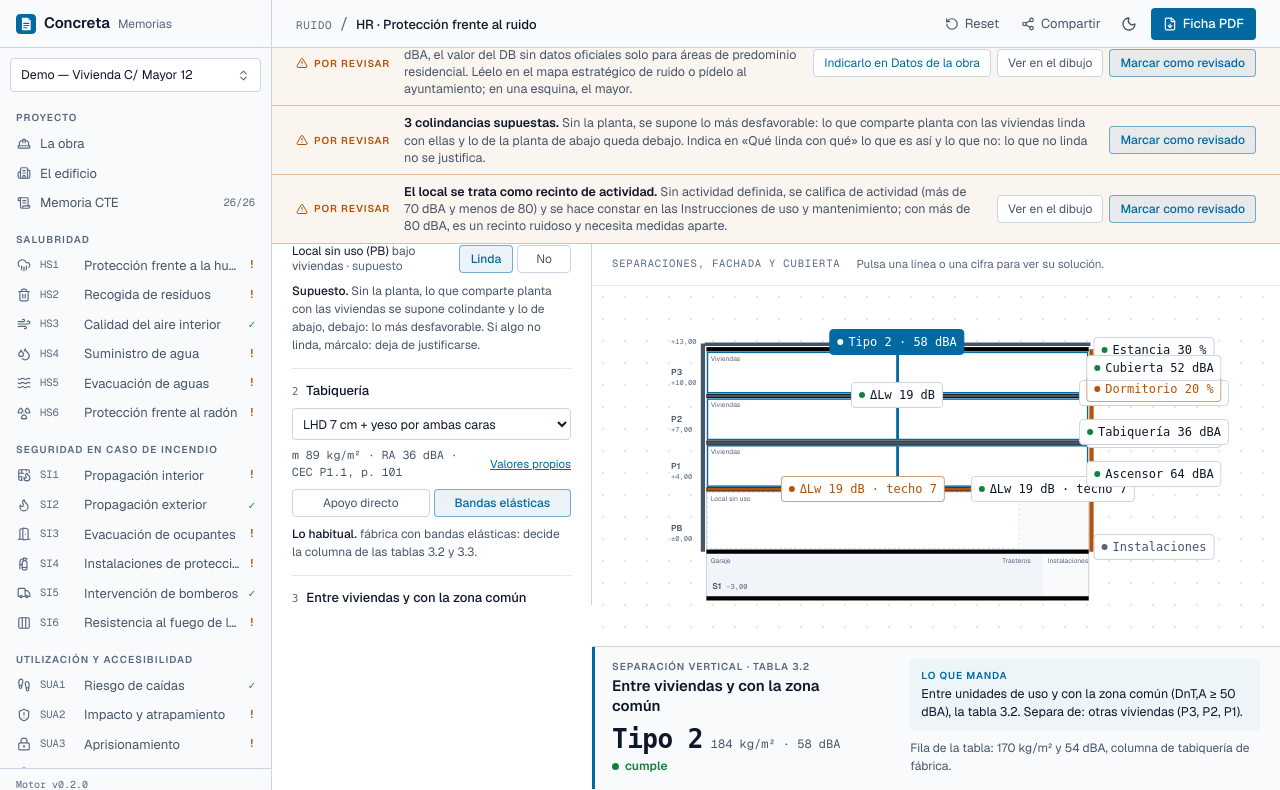
Scenario: HR · Protección frente al ruido (feature-25) › cabecera, qué entra y avisos; una tabiquería que no llega no cumple
(page scrolled)
Expected: the element "Separaciones, fachada y cubierta" is shown, [592,244,1279,605]
Select "Ladrillo de gran formato 7 cm + yeso por ambas caras" in the dropdown labelled "2 Tabiquería" at (432, 424), box [292,408,571,440]
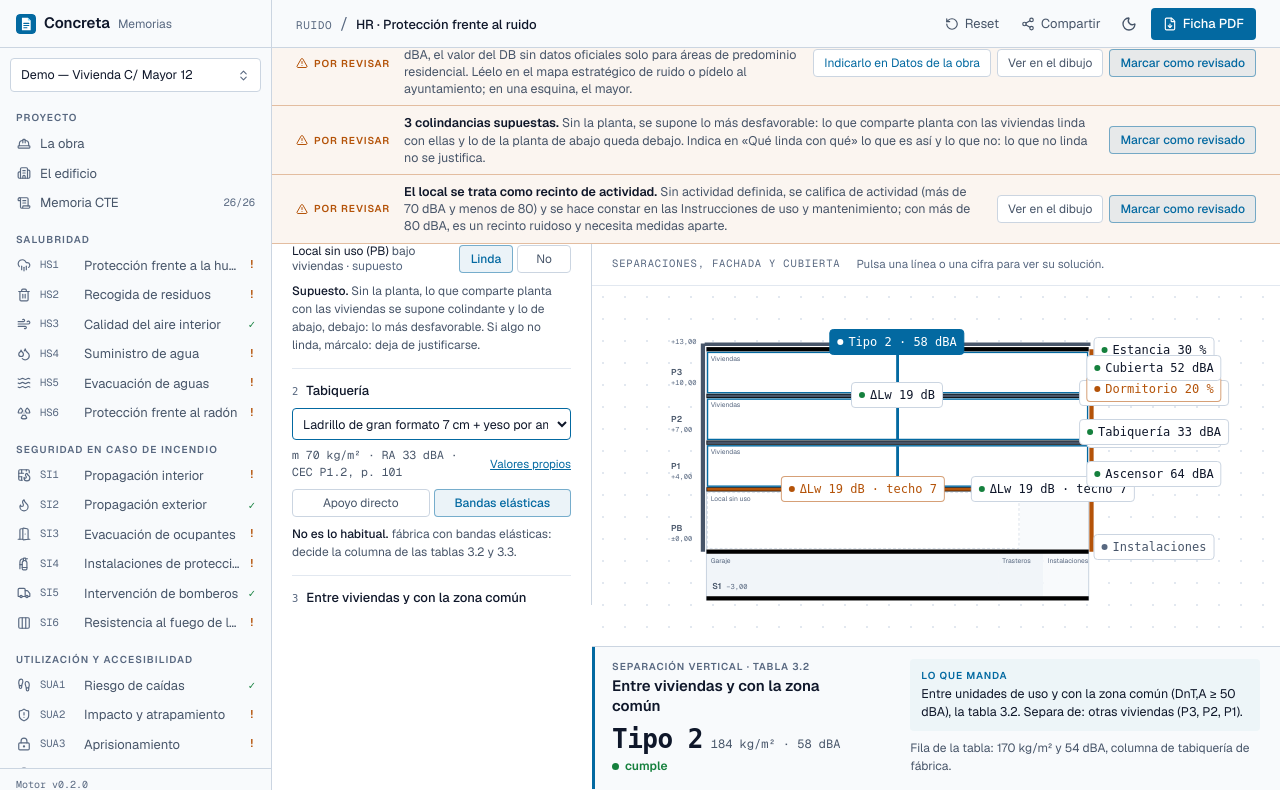
Click the button "Apoyo directo" at (361, 503), box [292,489,430,517]
(page scrolled)
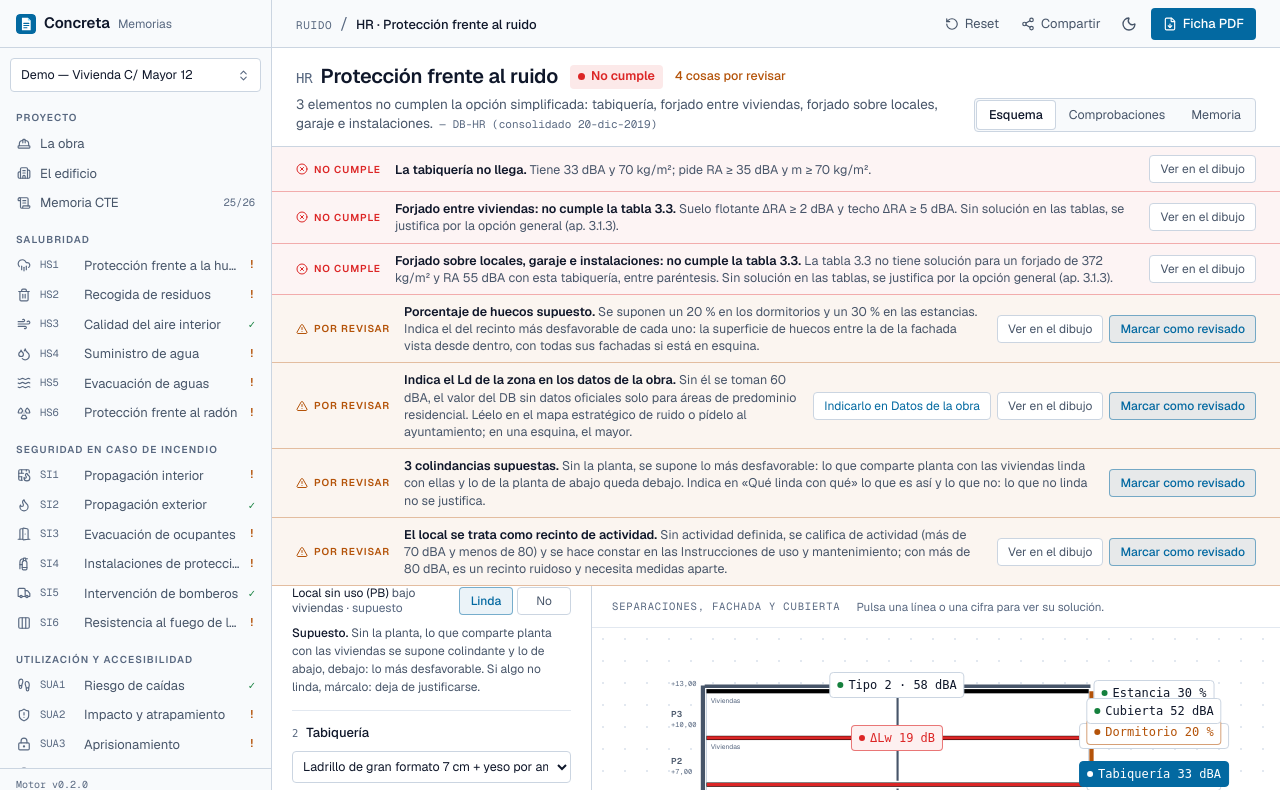
Expected: the element named "Avisos" shows "La tabiquería no llega.", [395,160,527,178]
